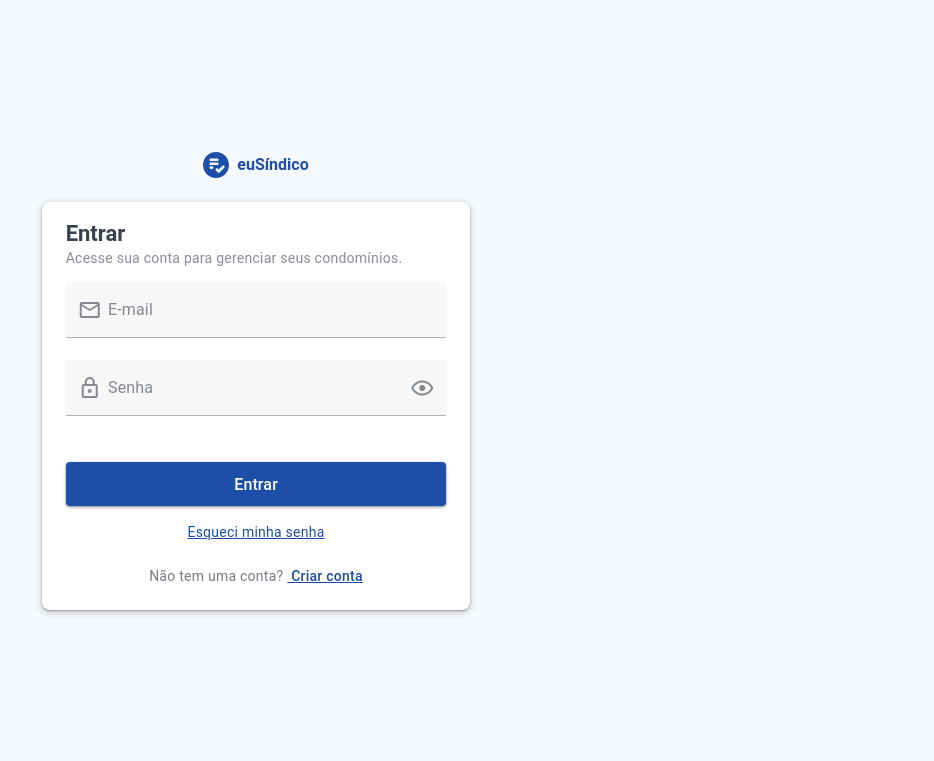
Scenario: Prédios (RF08-RF11) › filtra a lista por nome (busca client-side)
In the element with test id "email": point(257, 321) [66, 282, 447, 360], type "sindico@exemplo.com"
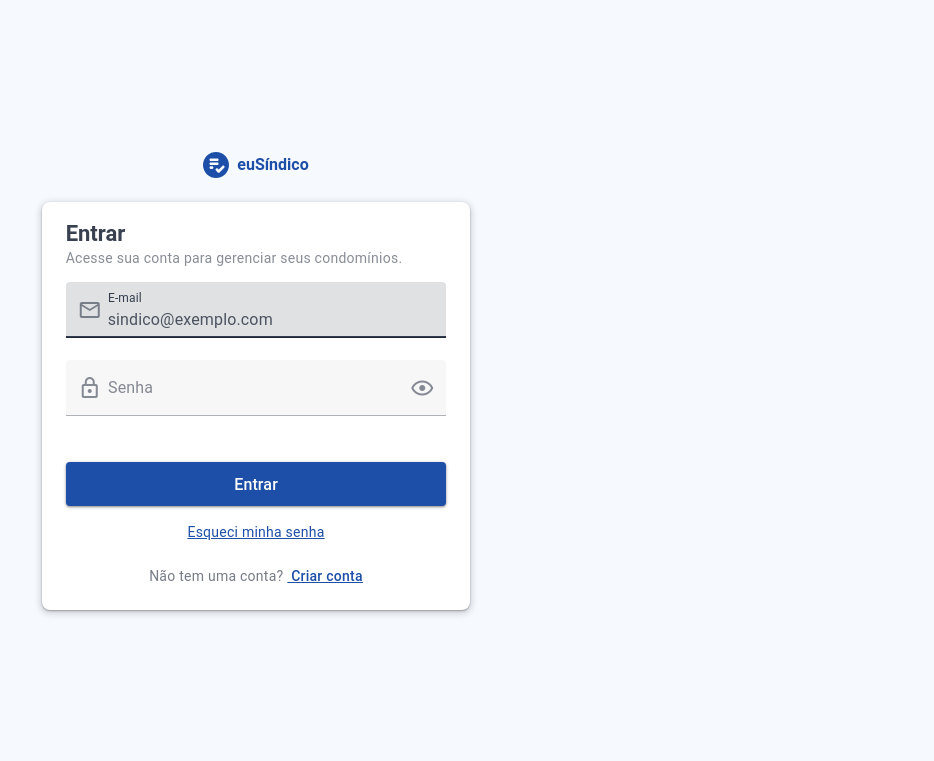
In the element with test id "senha": point(257, 399) [66, 360, 447, 438], type "SenhaForte1!"
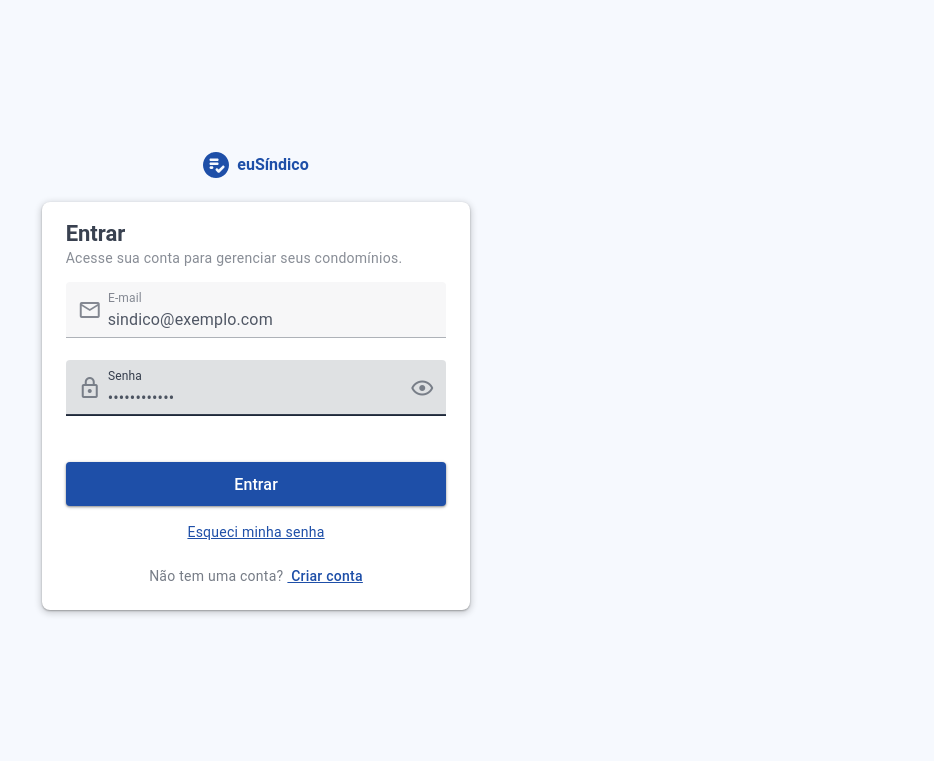
Click the button with test id "btn-entrar": point(257, 484) [66, 462, 447, 506]
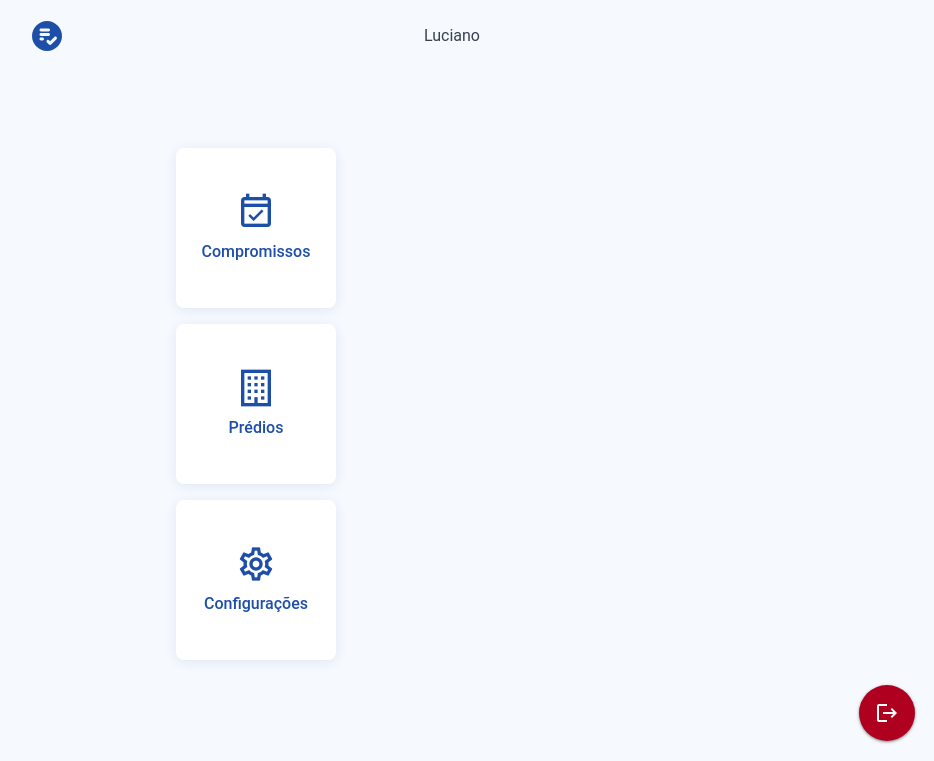
Click the link with test id "card-predios": point(256, 404) [176, 324, 336, 484]
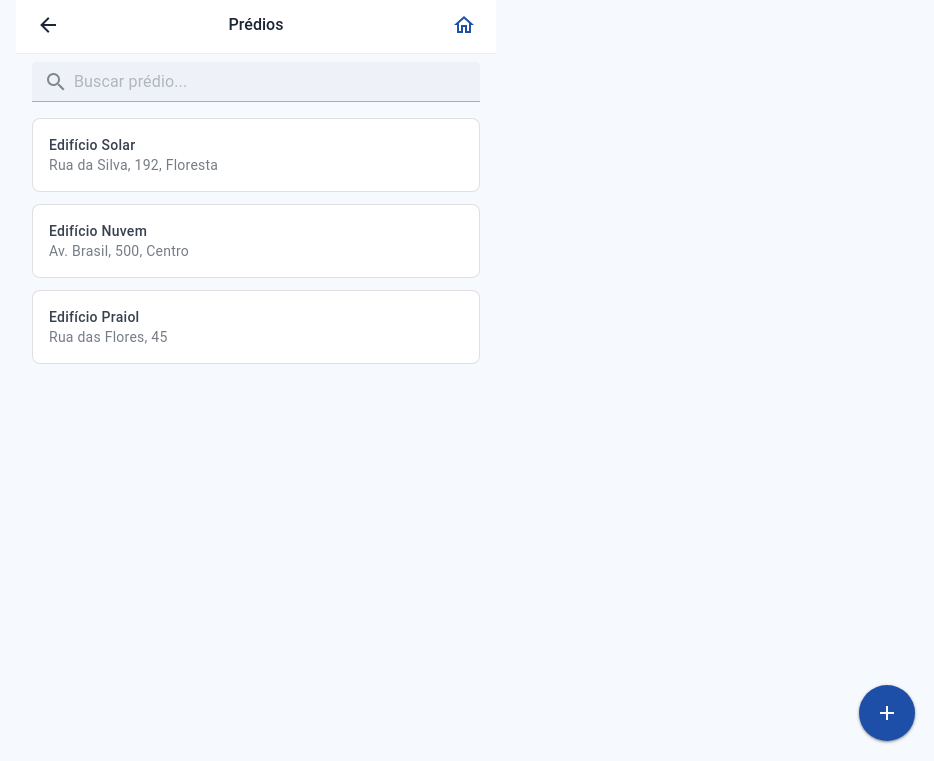
In the field with placeholder "Buscar prédio...": point(274, 82) [68, 62, 480, 102], type "nuvem"
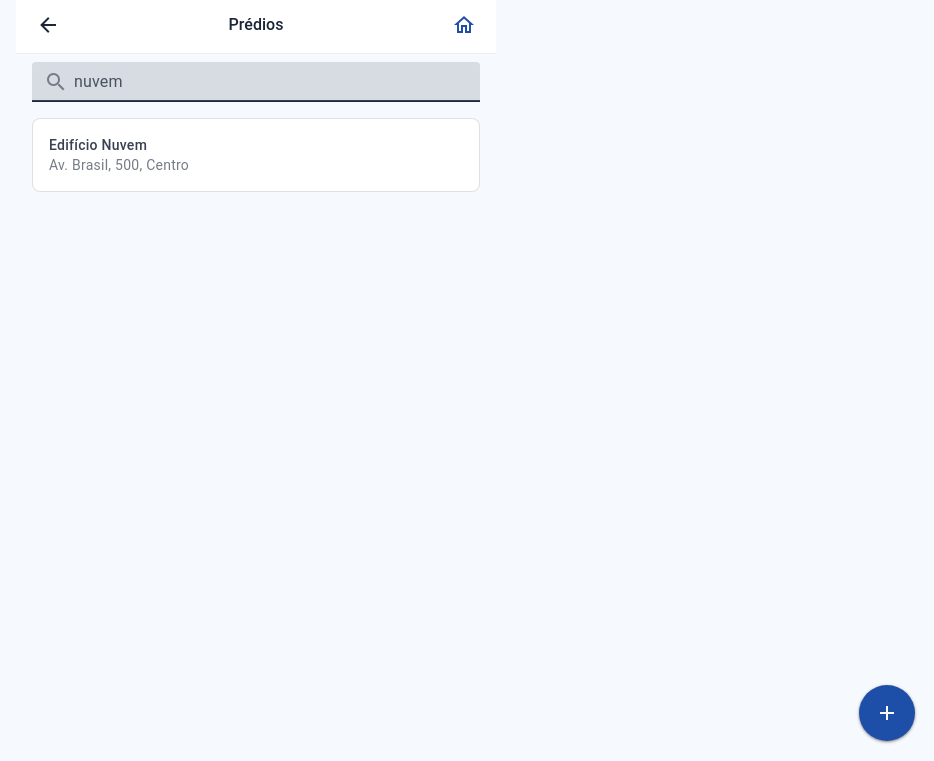
Now the link with test id "predio-card-2" is shown, box [32, 118, 480, 192]
Now the link with test id "predio-card-1" is gone
